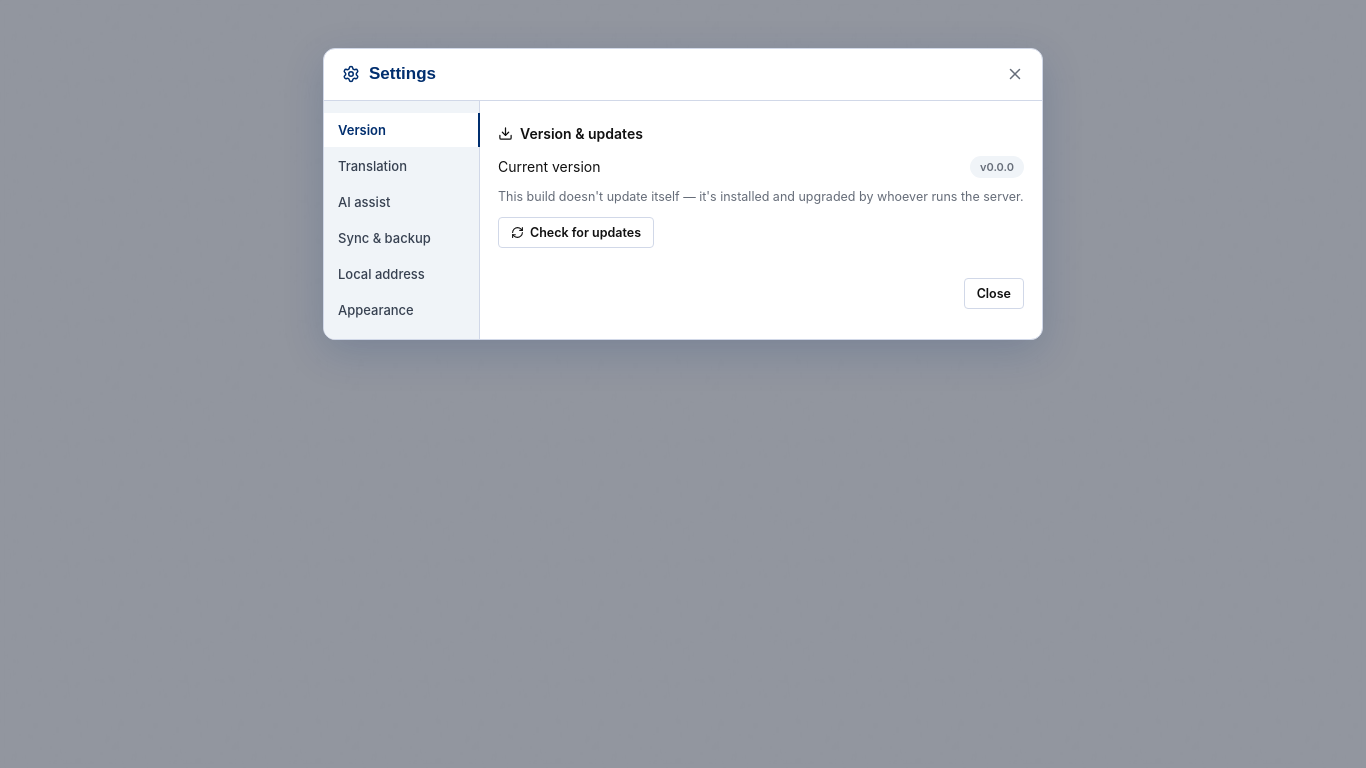
Test: <SettingsModal> › shows Docker controls for the local LibreTranslate option
Click the tab "Translation".
click(402, 166)  # box [324,149,480,183]
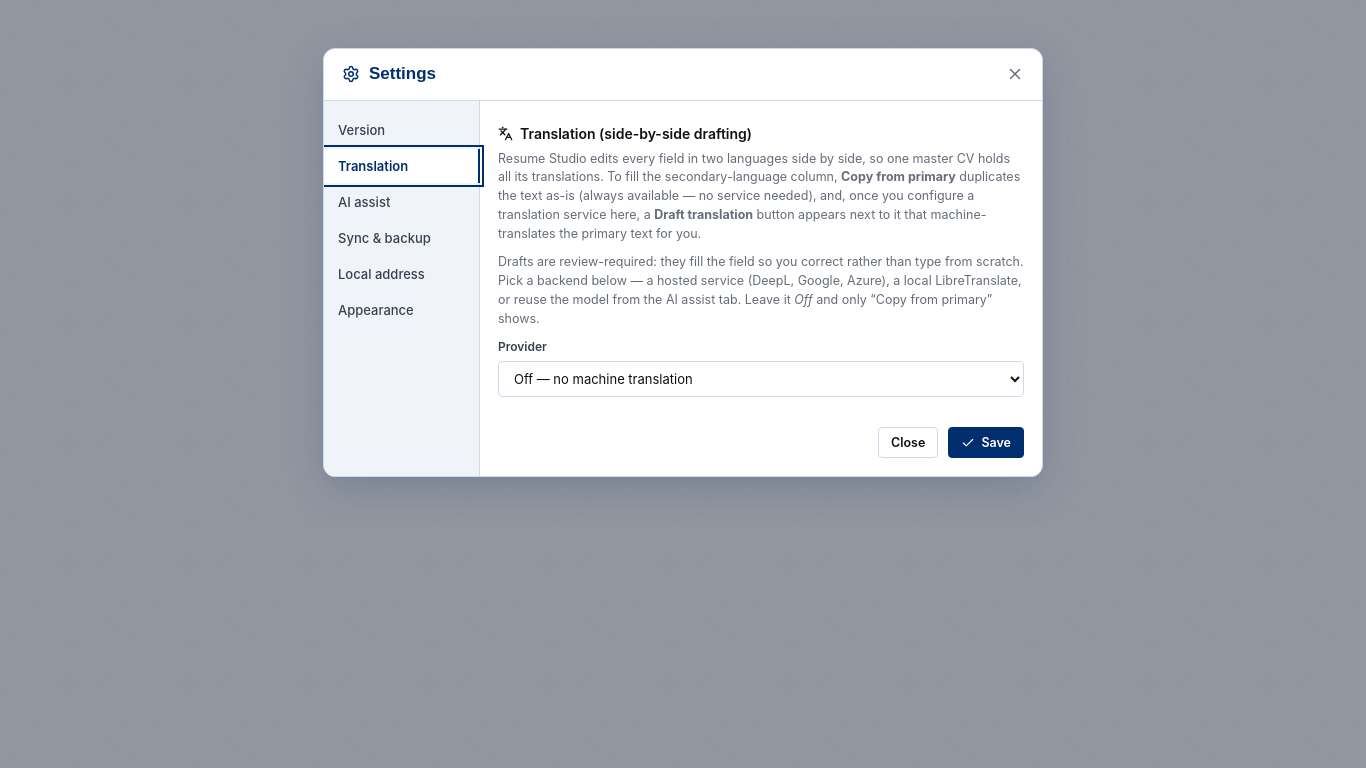
Select "LibreTranslate — local (Docker-managed)" in the dropdown named "Translation provider" at [761, 379], box [498,361,1024,397]
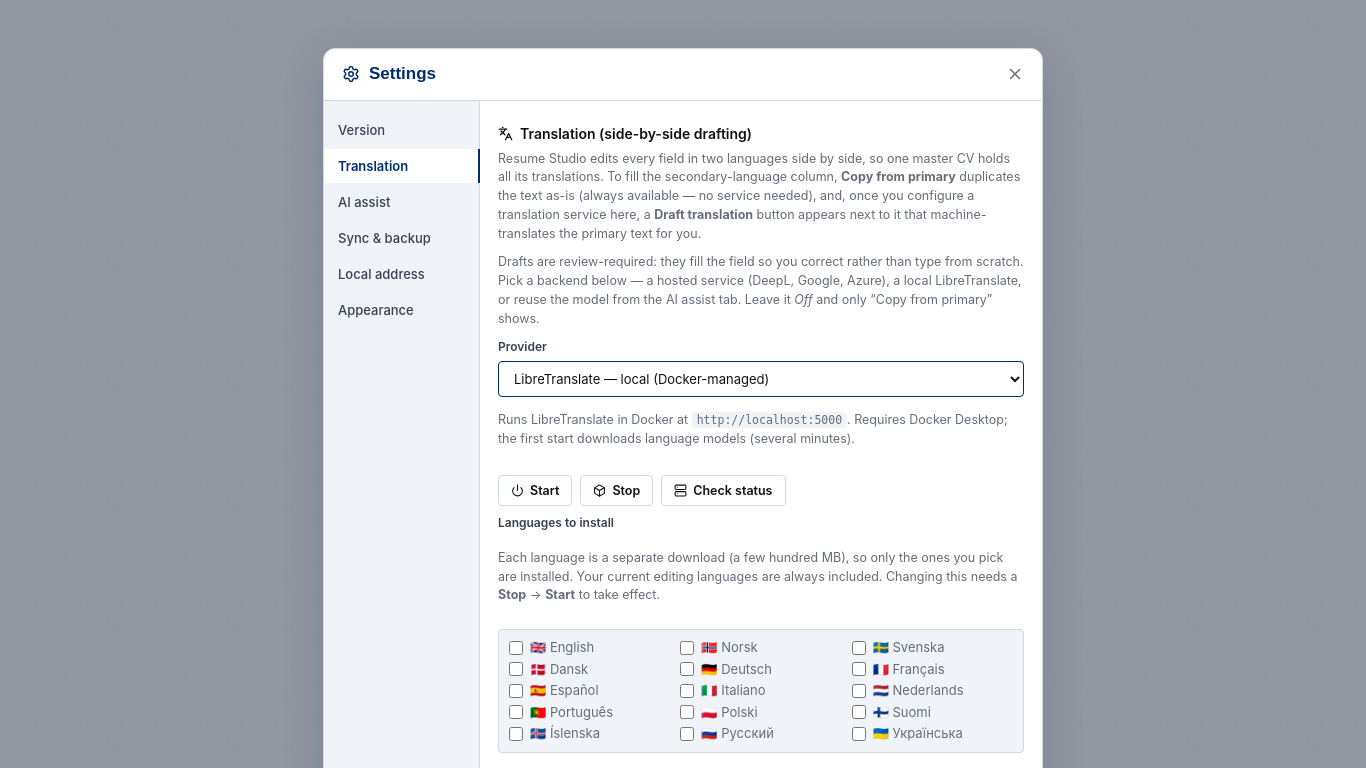
Click the button "Start".
click(535, 490)  # box [498,475,572,506]
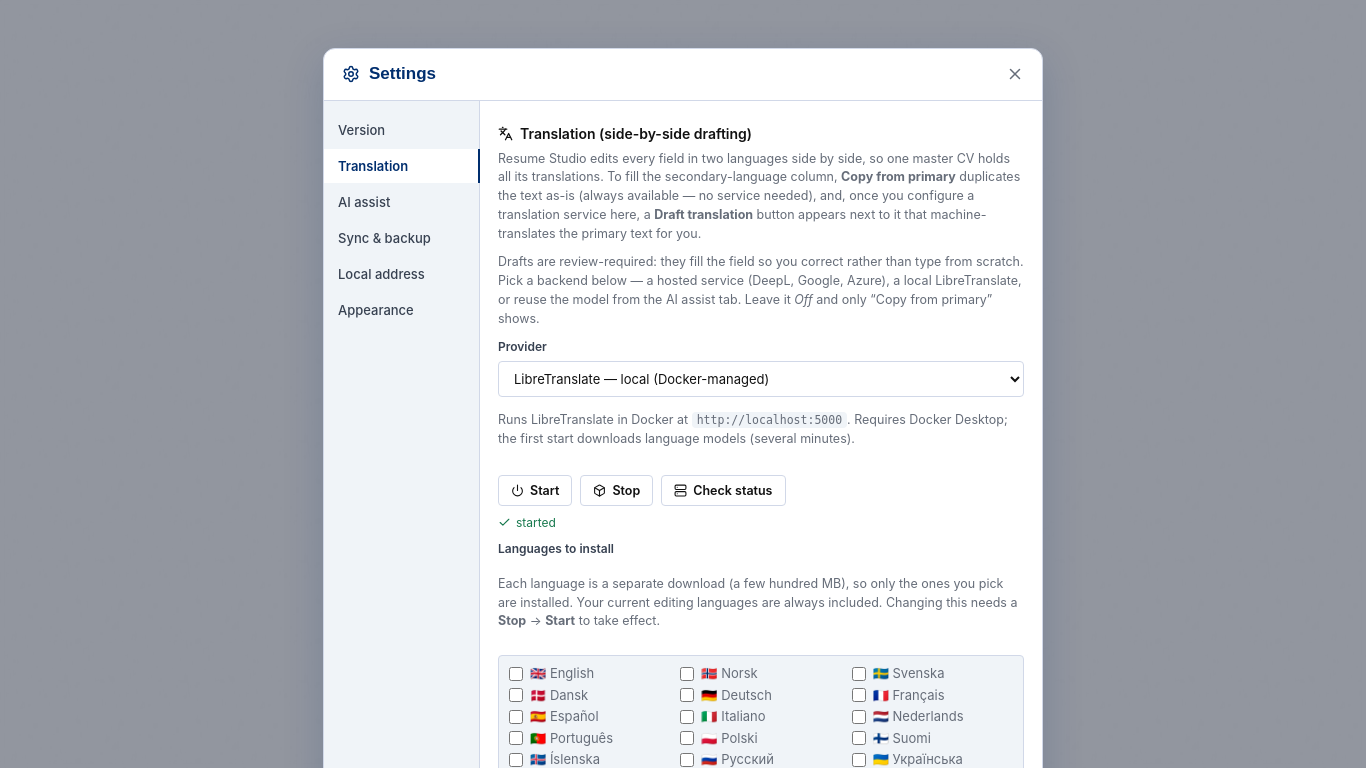
Expected: the text "started" is shown, [498,515,556,530]
